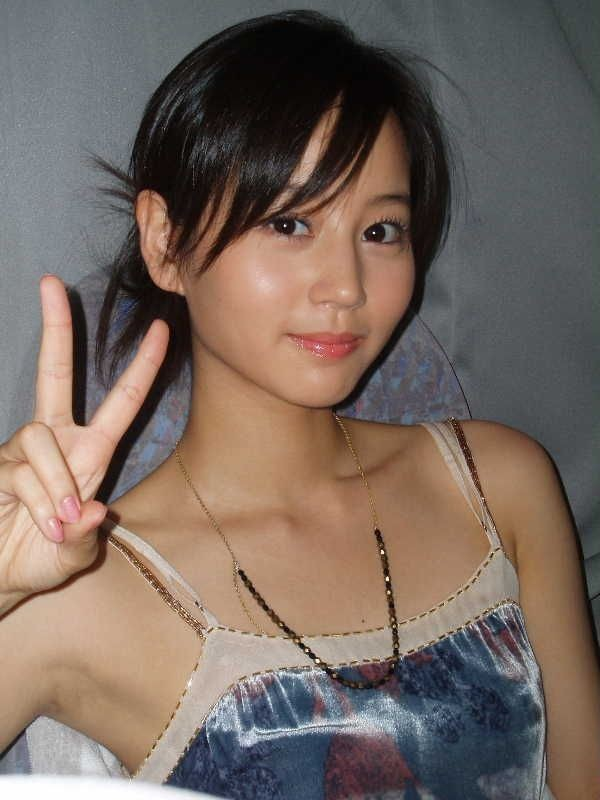face: (135, 94, 416, 411)
hand: (1, 275, 172, 595)
